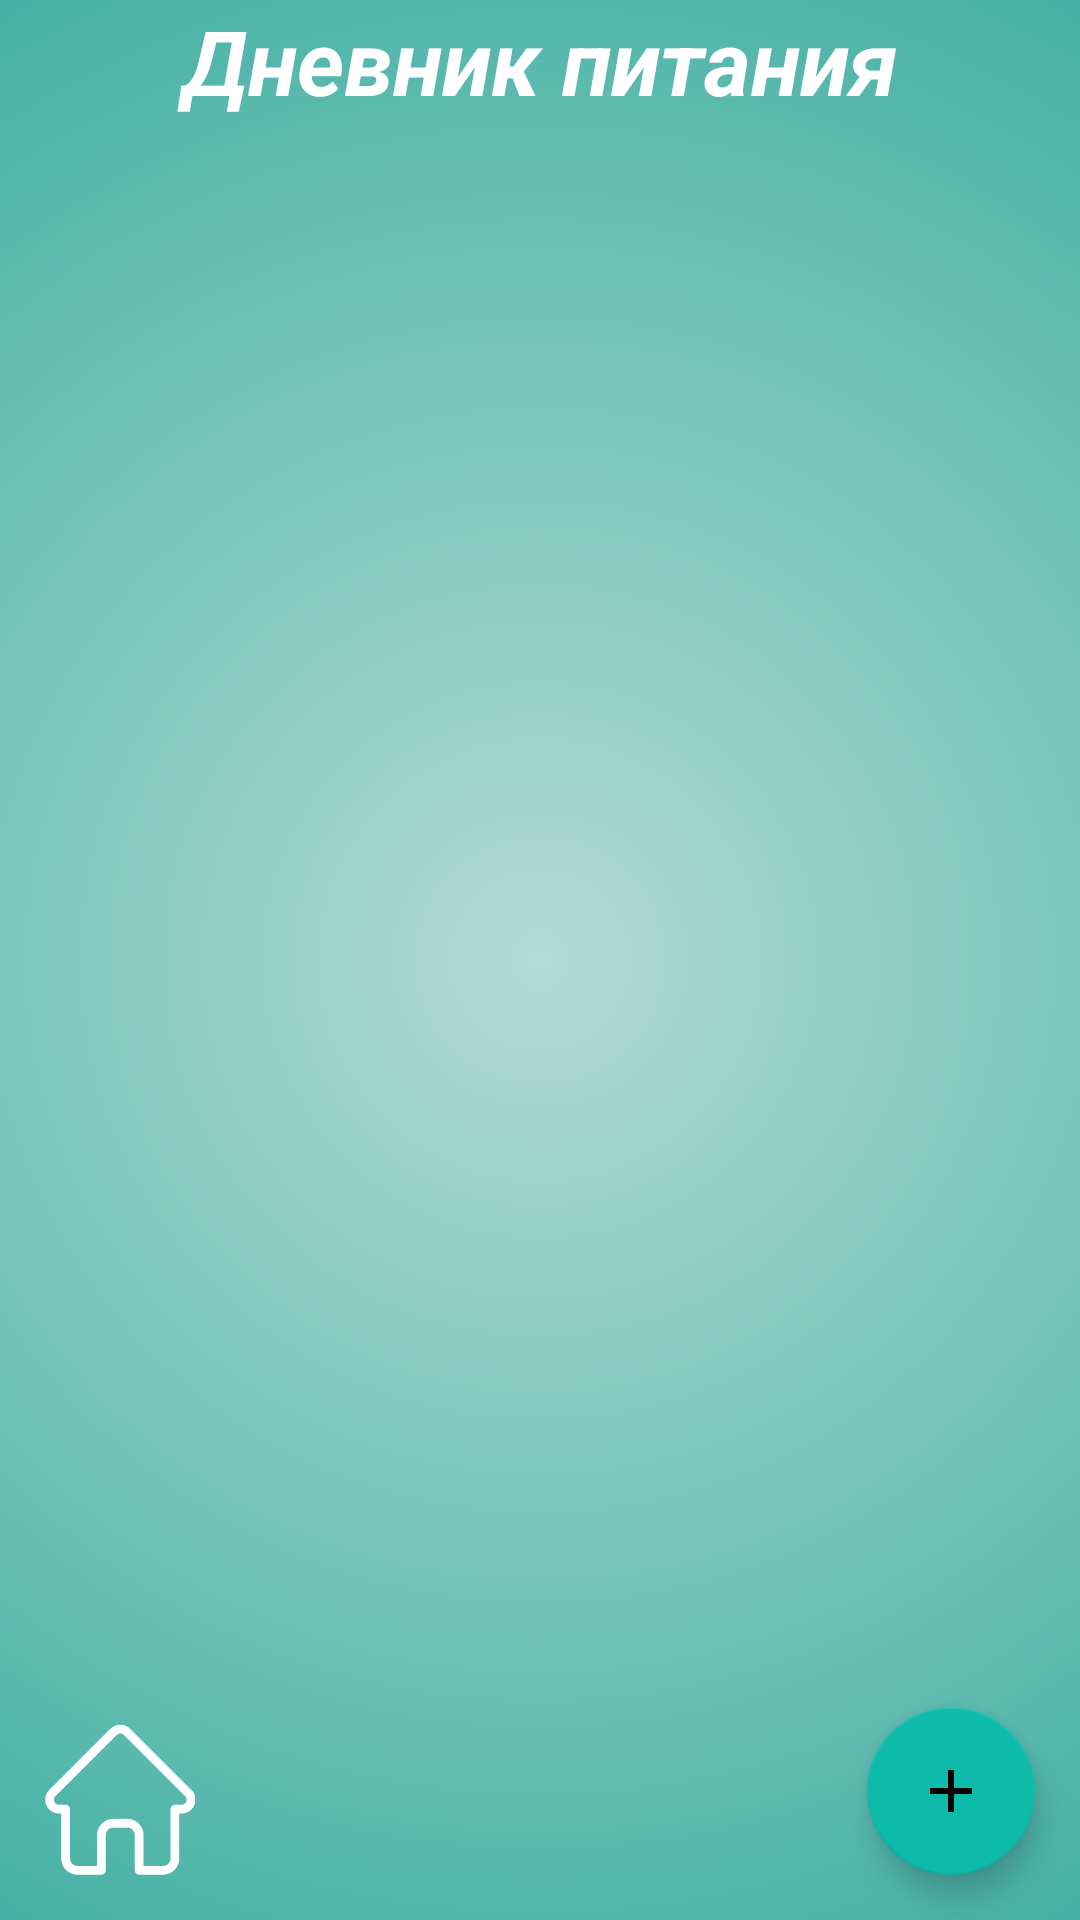

Where to tap for icons on this 1080 x 1920 app screen, as (x,y):
add diary: (951,1791)
home: (120,1800)
